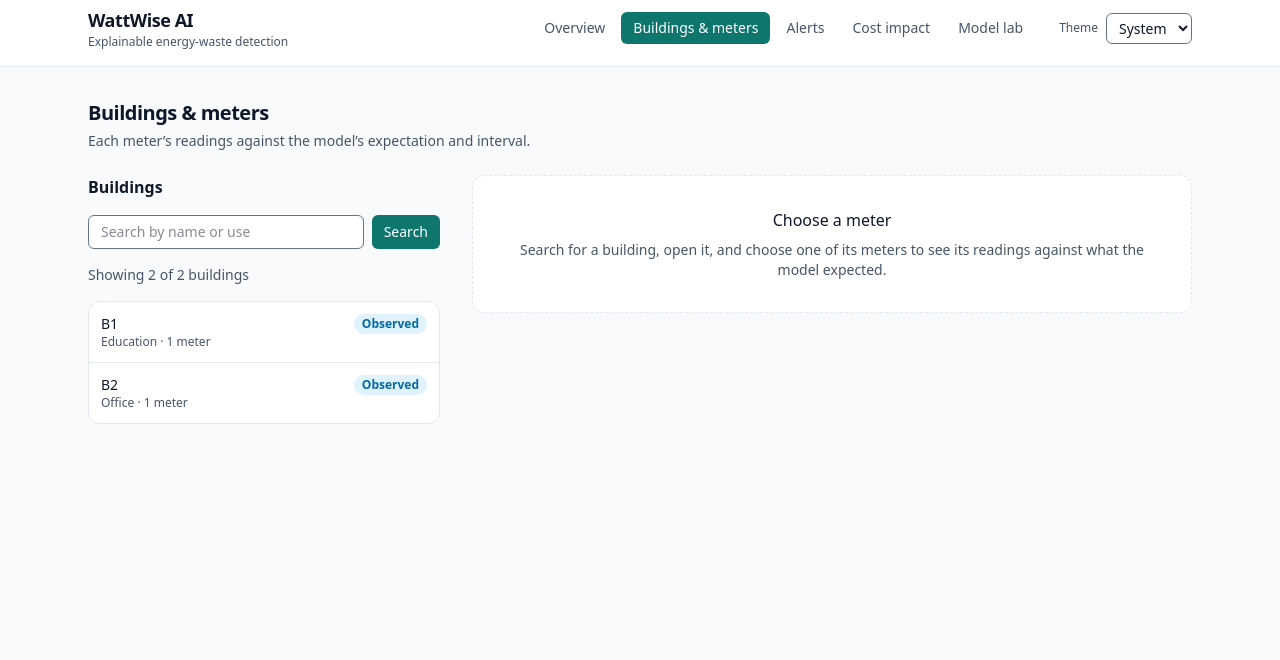
it: Explorer: a meter › offers the data as a table, with missing values shown as dashes
Click the button "B1 Education · 1 meter Observed": click(129, 342) [101,314,427,350]
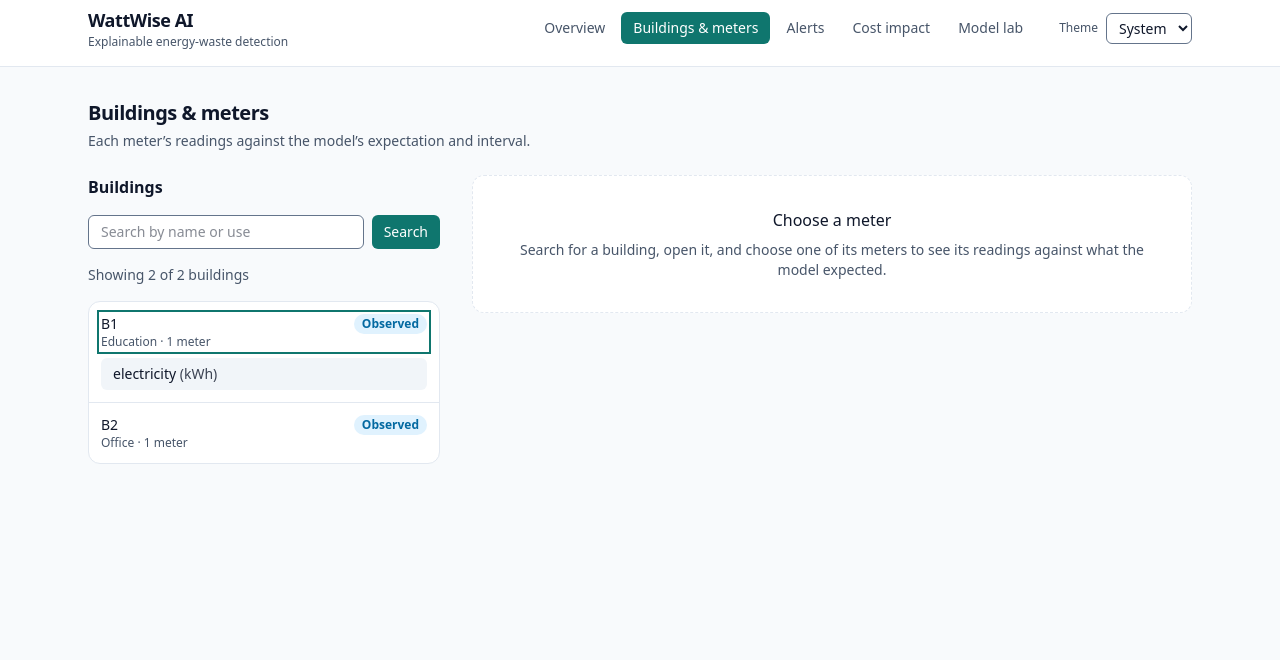
Click the button "electricity (kWh)": click(145, 374) [101,358,427,390]
(page scrolled)
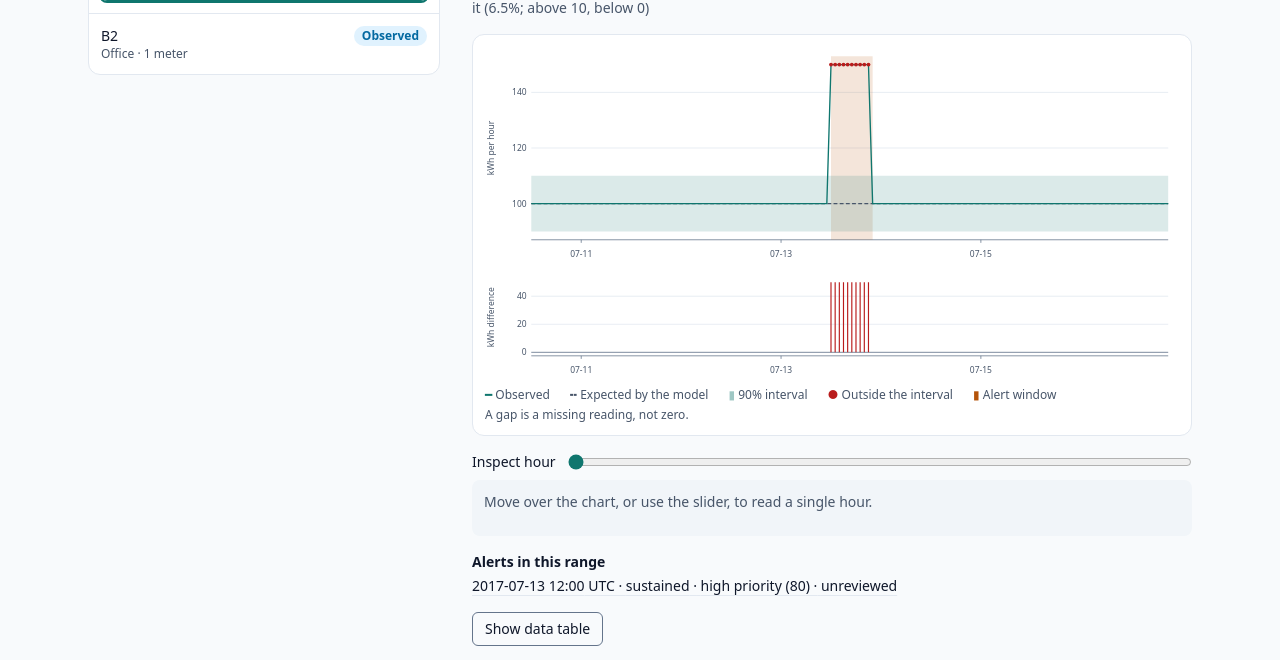
Click the button "Show data table": click(538, 629) [472,612,603,646]
(page scrolled)
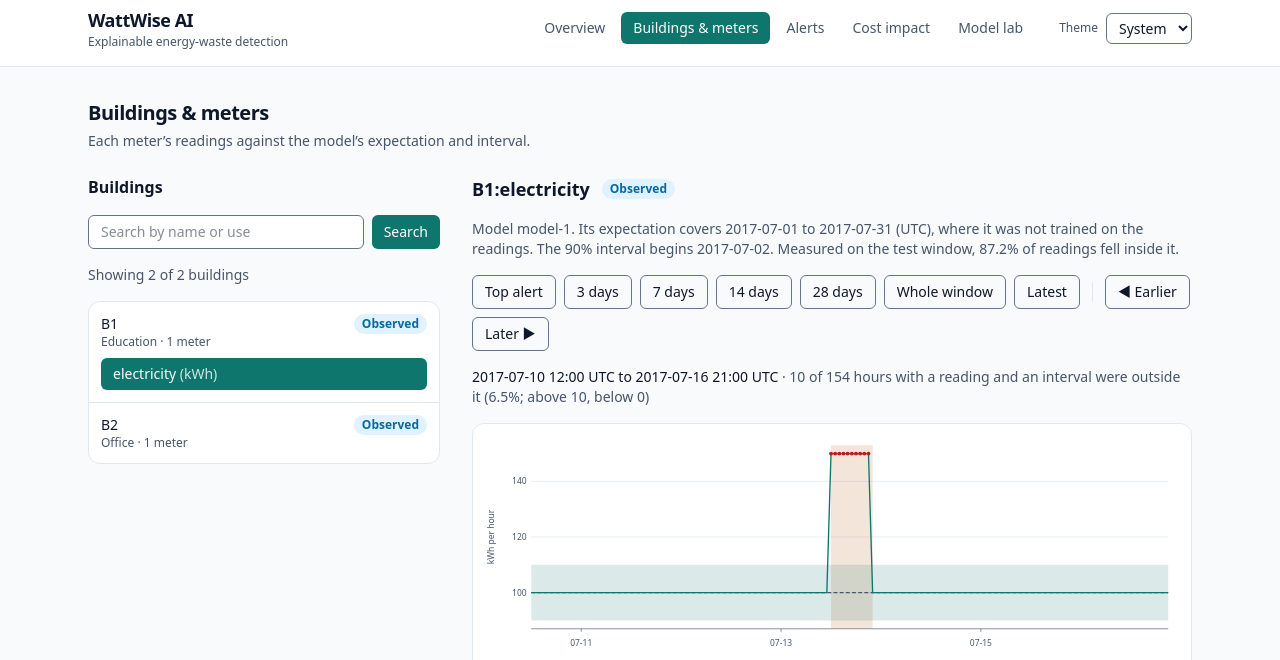
Click the button "Whole window": click(945, 292) [884,275,1006,309]
(page scrolled)
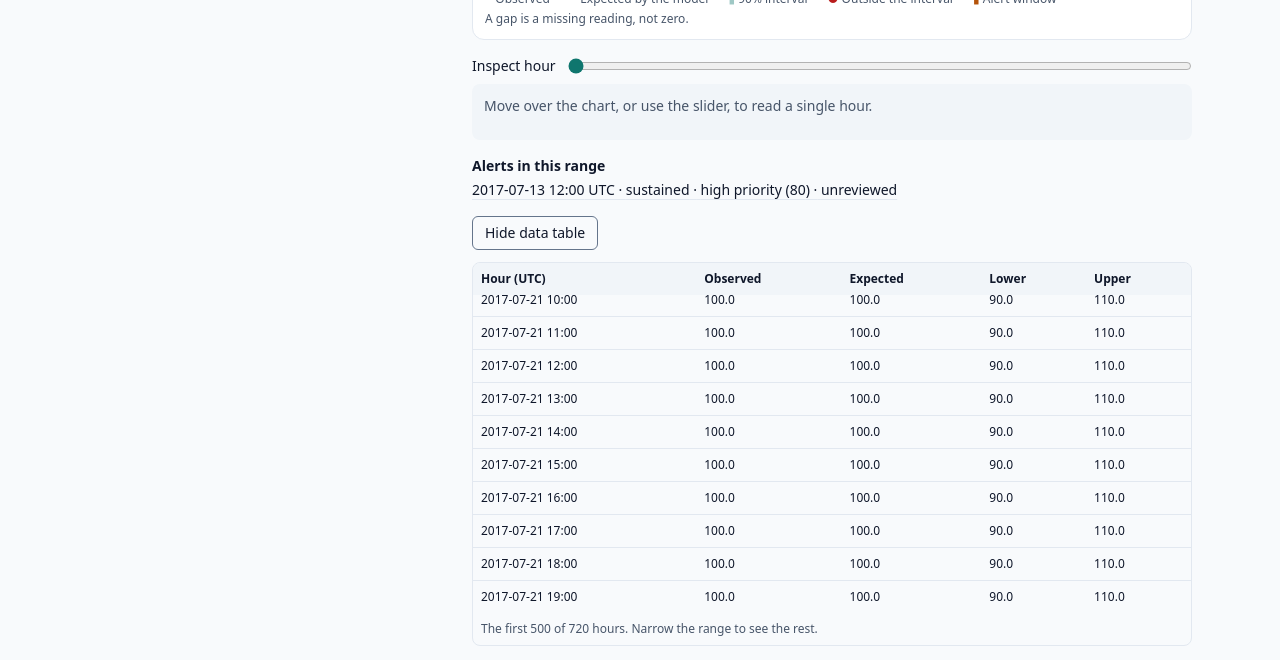
Expected: the text "The first 500 of 720 hours" is shown, [481,620,818,637]
